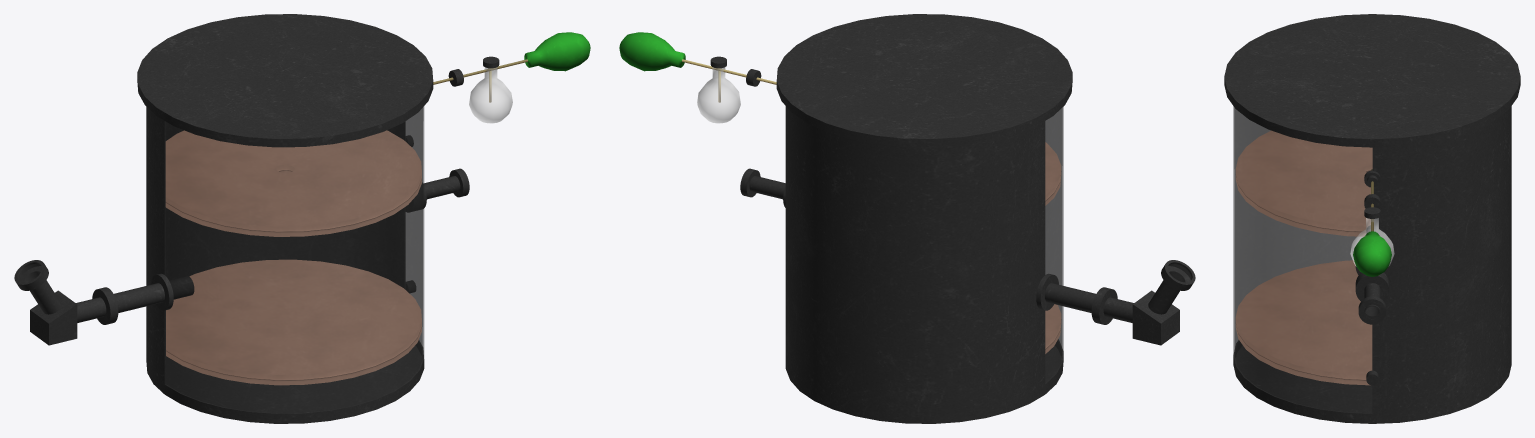
File: Updated Millikans.fbx
The picture shows the model from 3 angles, left to right: view 1: azimuth 30°, elevation 25°; view 2: azimuth 150°, elevation 25°; view 3: azimuth 270°, elevation 25°; orthographic projection.
Visible parts, largest first — view 1: Cylinder.003, Cylinder.002, Copper, Pump, Cylinder.007; view 2: Cylinder.002, Cylinder.003, Pump, Cylinder.007, Copper; view 3: Cylinder.002, Cylinder.003, Copper, Pump, Cylinder.007.
Boxes of the visible parts, x1,y1,x2,y2 form: Cylinder.003: (18,106,424,413); Cylinder.002: (14,14,499,423); Copper: (165,130,421,385); Pump: (433,32,590,102); Cylinder.007: (469,67,512,123); Cylinder.002: (710,14,1195,423); Cylinder.003: (1045,107,1191,383); Pump: (619,32,776,102); Cylinder.007: (697,67,740,123); Copper: (1045,142,1061,353); Cylinder.002: (1224,14,1520,423); Cylinder.003: (1233,106,1379,413); Copper: (1235,130,1372,385); Pump: (1353,169,1391,276); Cylinder.007: (1350,218,1394,266).
Bounding box in the file's own units: 51.87 × 25.08 × 23.35.
